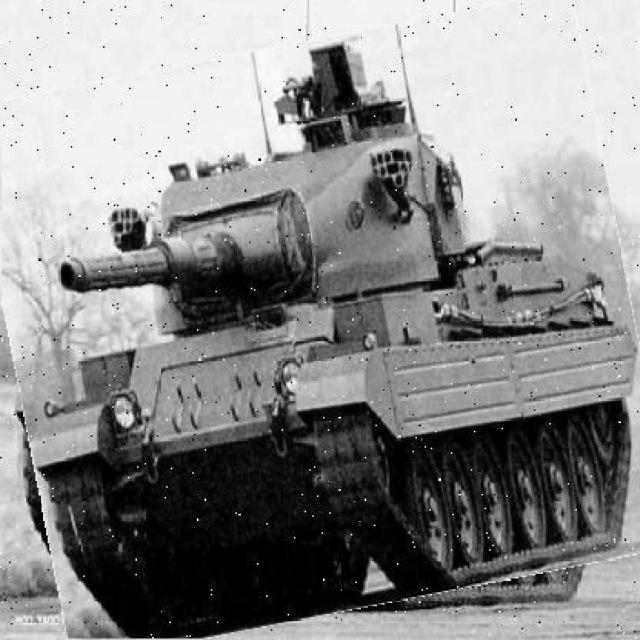Tank: (2, 17, 640, 639)
